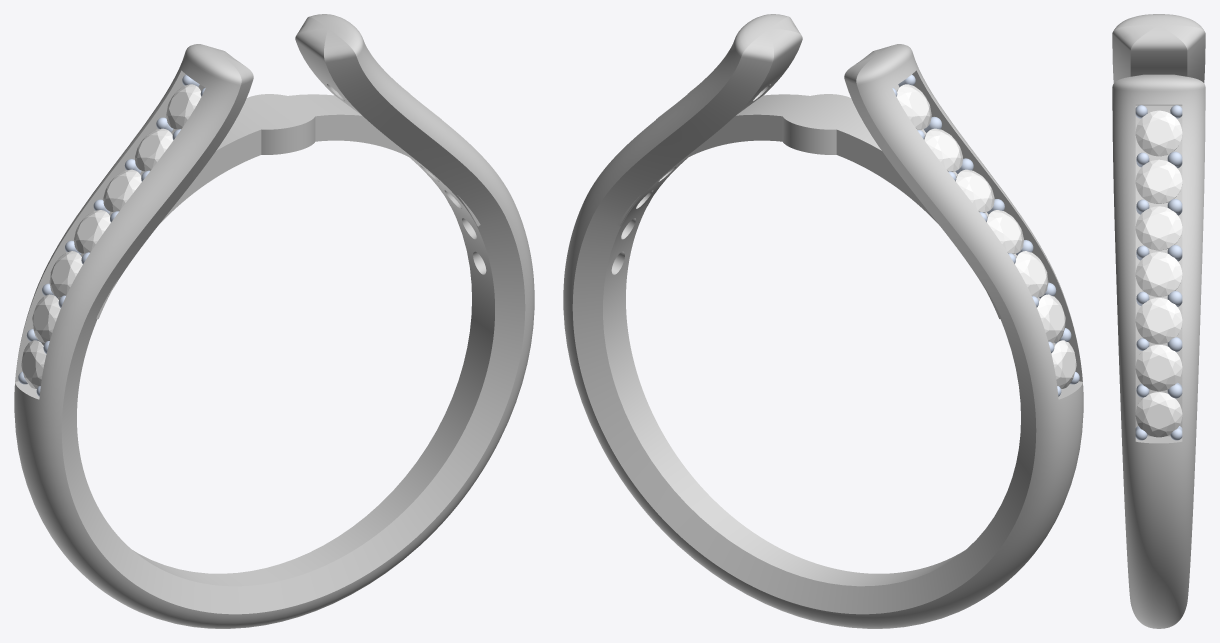
File: cathedral_03.glb
The picture shows the model from 3 angles, left to right: view 1: azimuth 30°, elevation 25°; view 2: azimuth 150°, elevation 25°; view 3: azimuth 270°, elevation 25°; orthographic projection. The views are drawn at different scales.
Parts seen in each view (by area): view 1: Metal 01, Gem 02; view 2: Metal 01, Gem 02; view 3: Metal 01, Gem 02.
Part boxes in pixels (<box>): Metal 01: <box>14,14,534,628</box>; Gem 02: <box>21,84,441,388</box>; Metal 01: <box>563,14,1083,628</box>; Gem 02: <box>656,84,1076,388</box>; Metal 01: <box>1112,14,1205,628</box>; Gem 02: <box>1135,110,1182,437</box>.
Bounding box in the file's own units: 0.021 × 0.023 × 0.0035.
